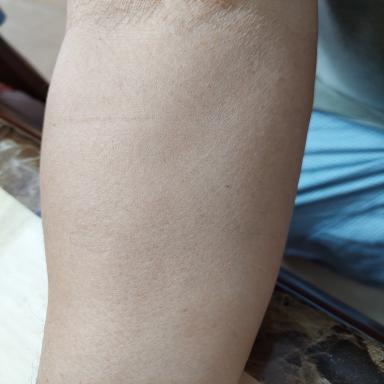normal skin: (37, 0, 317, 384)
